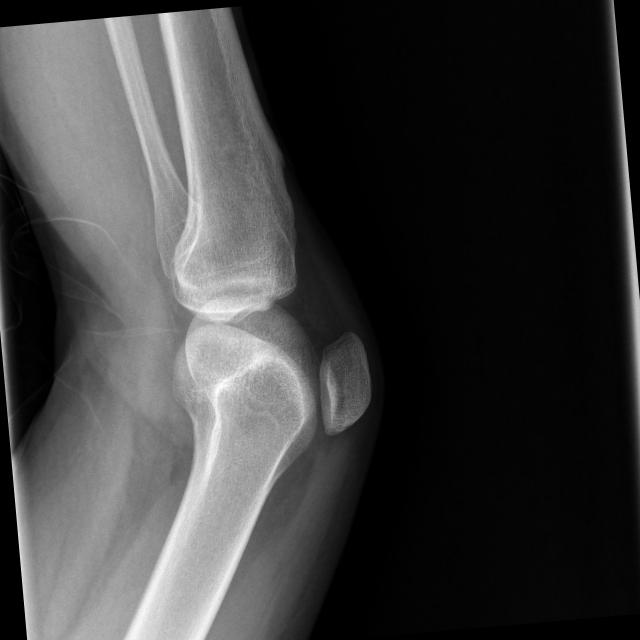Knee: (158, 233, 376, 454)
